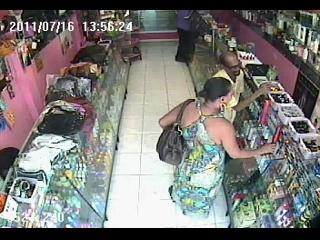Normal: (158, 77, 278, 226), (212, 51, 276, 125), (156, 99, 193, 166), (174, 11, 199, 66)
